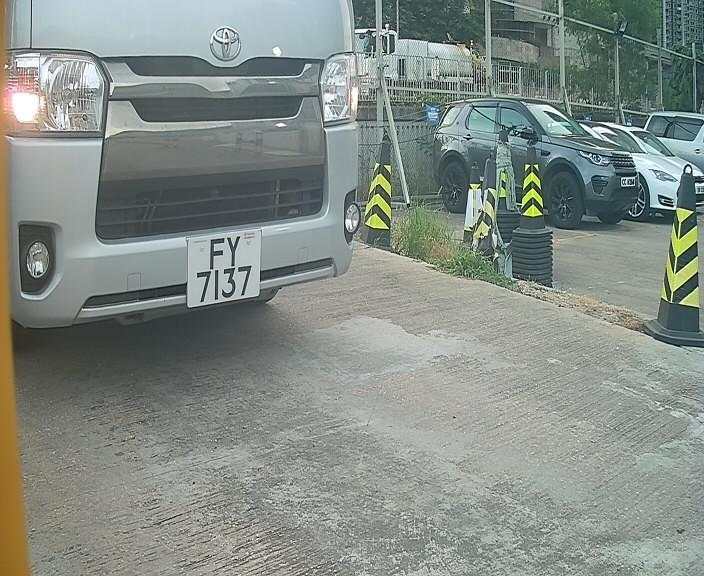privatecar: (10, 1, 403, 350)
